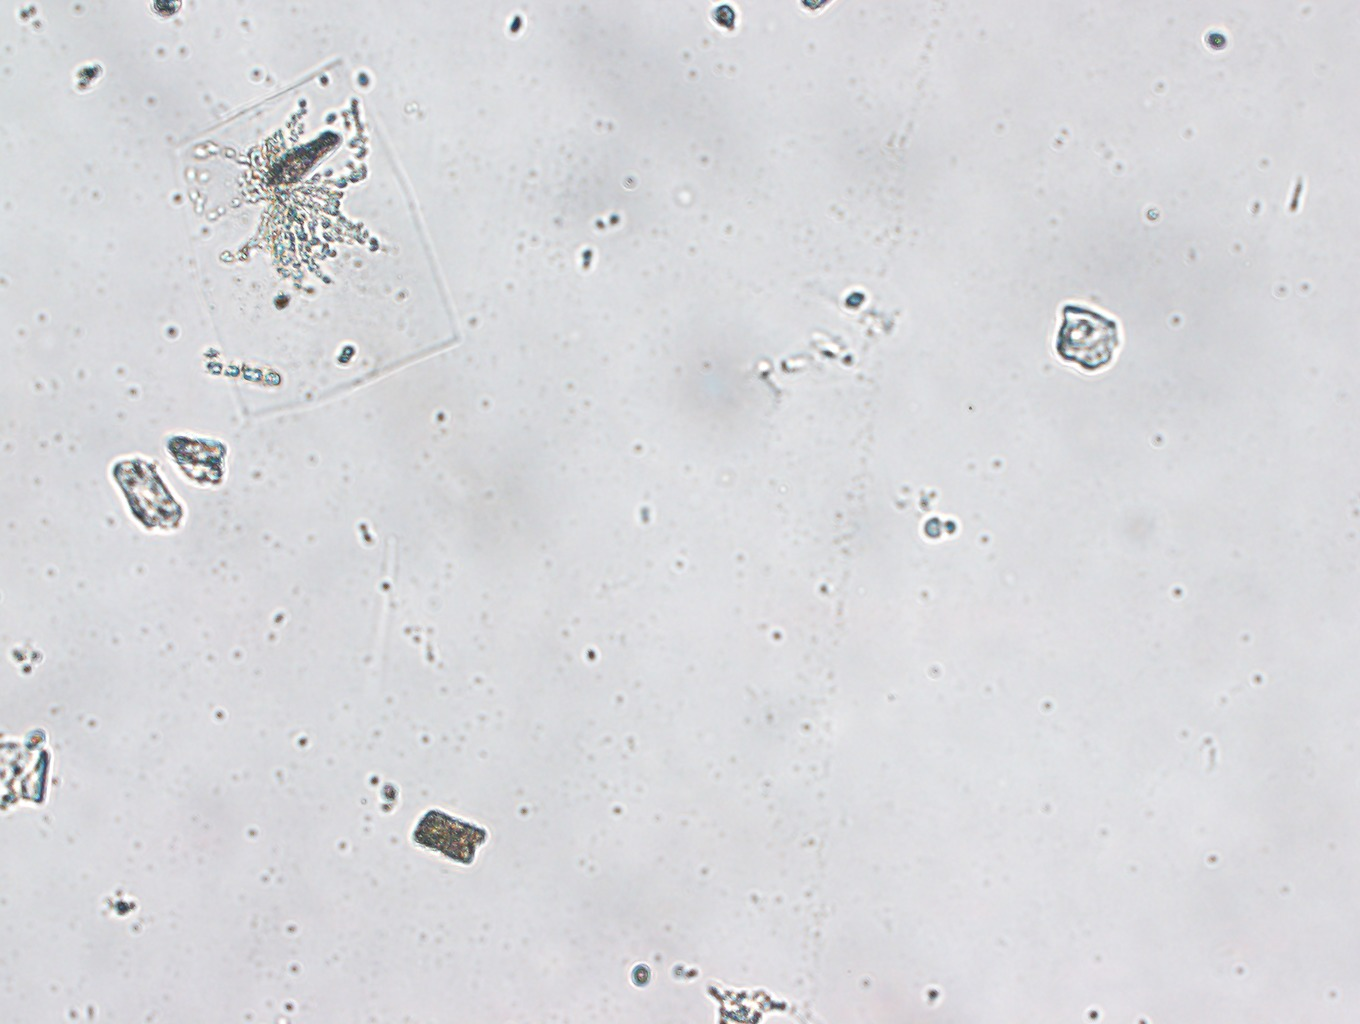helicotheca: (169, 57, 462, 419)
